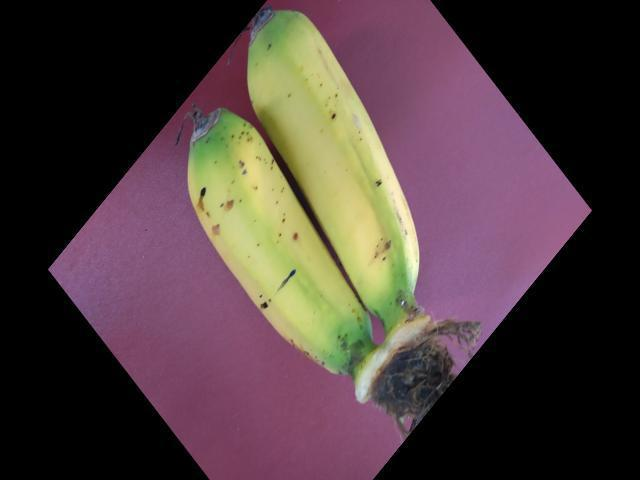freshripe: (240, 3, 420, 290)
ripe: (164, 107, 367, 389)
